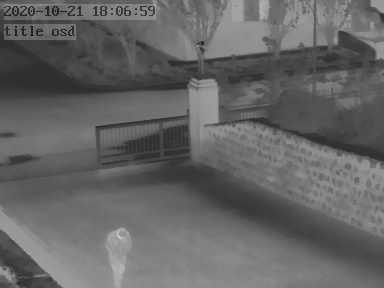person: (104, 225, 133, 288)
